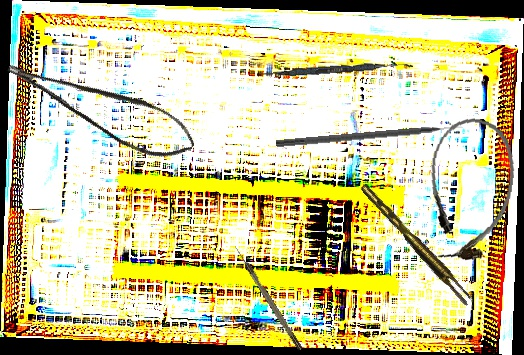Cannula: (418, 112, 522, 267)
Hook Surgical: (233, 244, 303, 352), (275, 123, 464, 150)
Micro Scissor: (3, 30, 203, 177)
Spatula Surgical: (257, 58, 414, 81)
Tissue Forceps: (360, 178, 474, 310)
